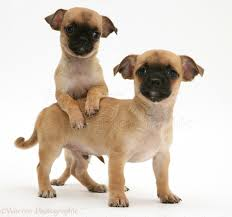chihuahua: (16, 45, 206, 207), (39, 7, 121, 127)
